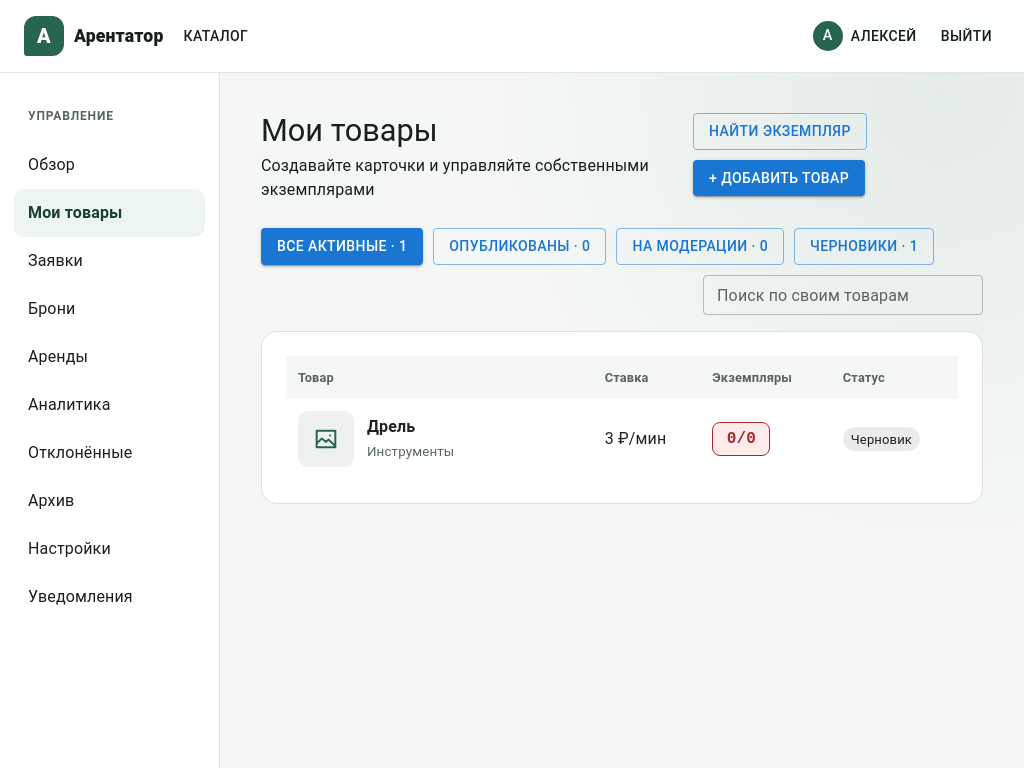
Scenario: searches an instance by exact inventory number and offers maintenance
Click the button "Найти экземпляр" at [780, 131], box left=693, top=113, right=867, bottom=150
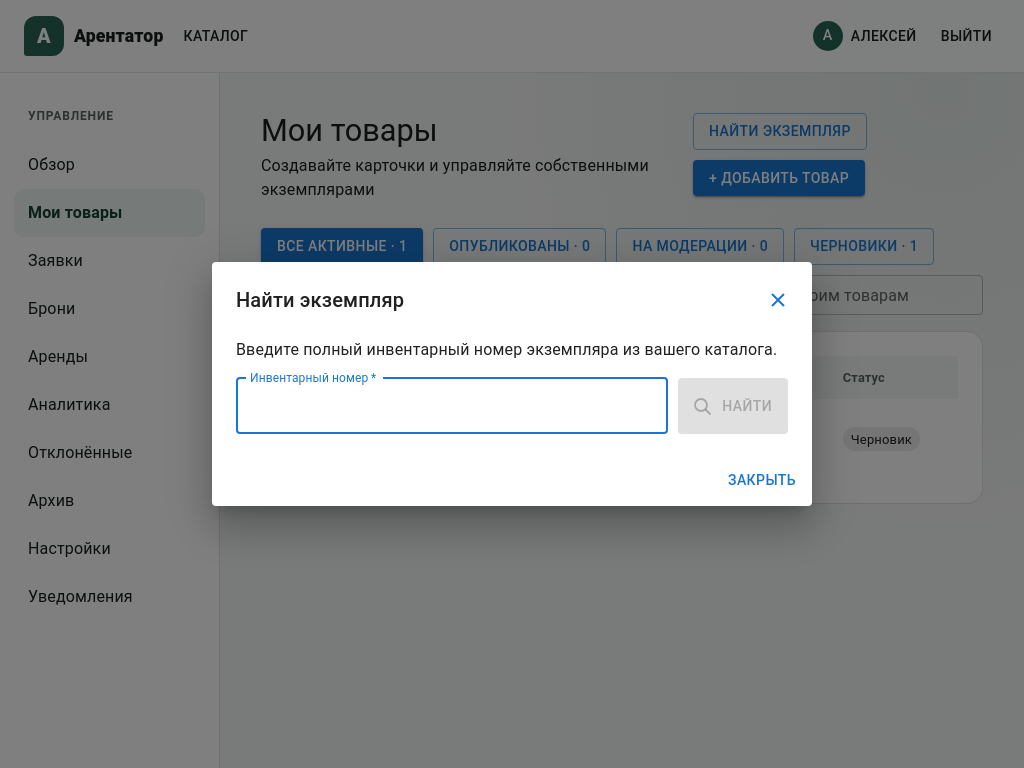
Type "MK-014" into the field labelled "Инвентарный номер" at [452, 406], box left=236, top=378, right=668, bottom=434
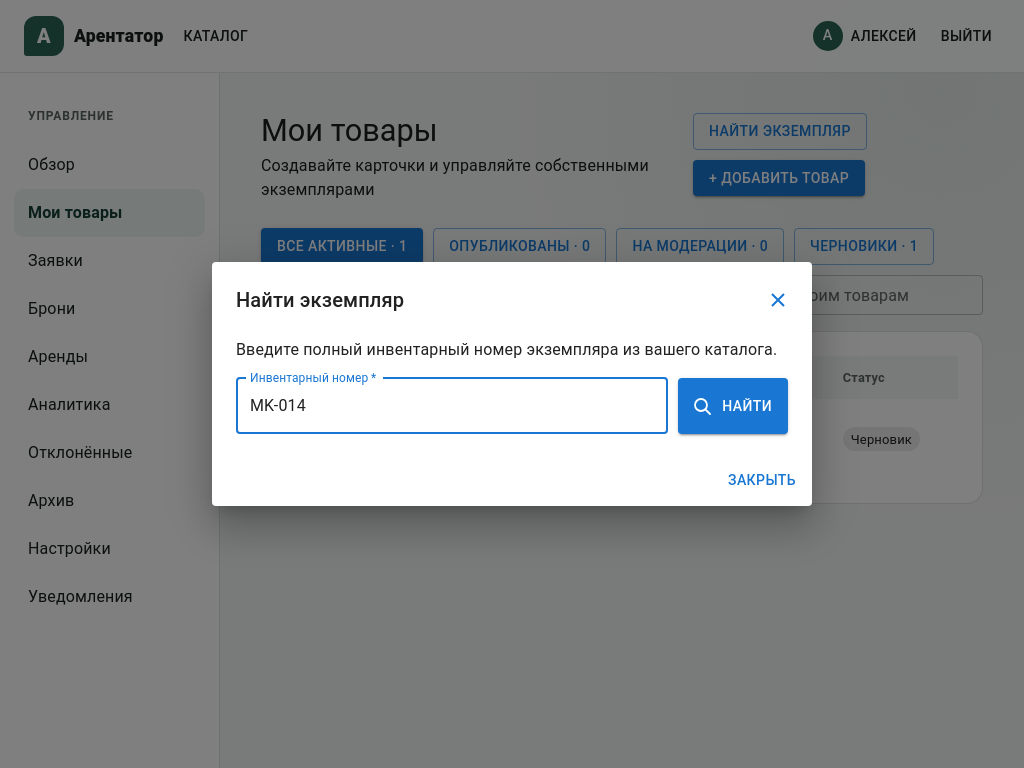
Click the button "Найти" at [733, 406], box left=678, top=378, right=788, bottom=434
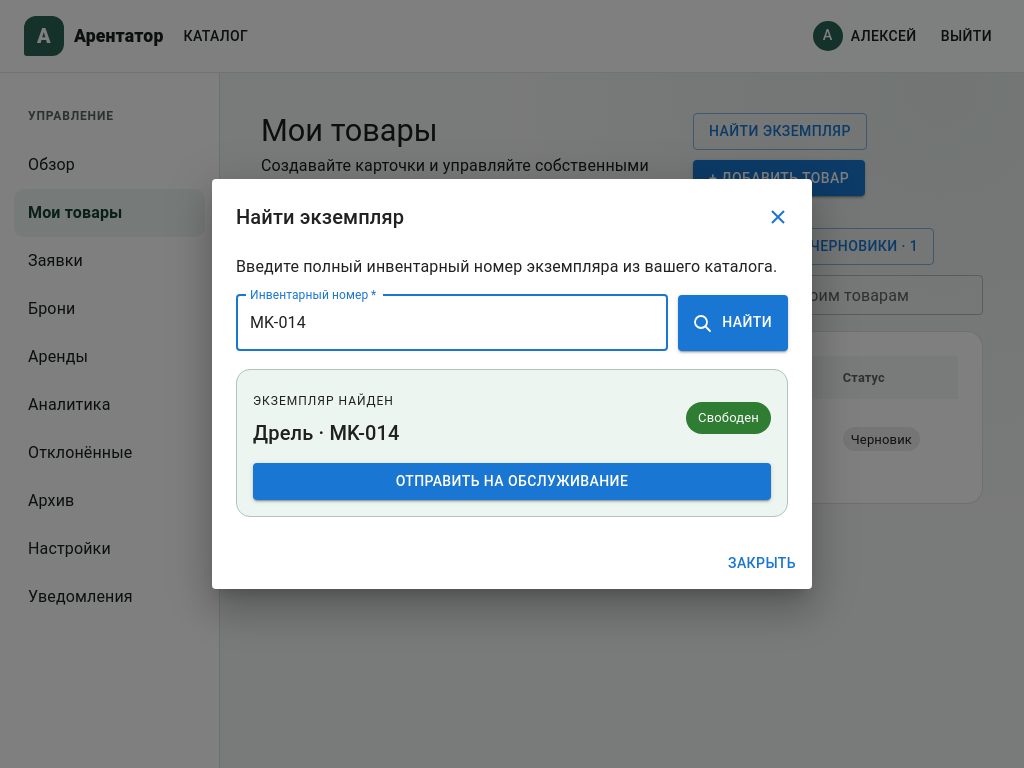
expect the text "Свободен" is shown: met, box left=698, top=410, right=759, bottom=425
expect the heading "Дрель · MK-014" is shown: met, box left=253, top=422, right=400, bottom=446
expect the button "Отправить на обслуживание" is shown: met, box left=253, top=464, right=771, bottom=500
